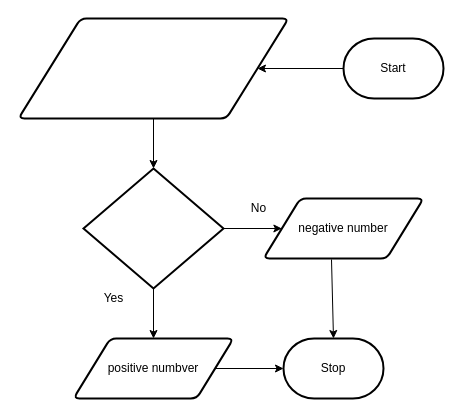
Some shapes in this 461 by 416 pixel diagram are drawn without their labels. Each missing label, with the box of its shape:
if input > =0: (82, 167, 224, 289)
input number is between -100 to 100: (17, 17, 289, 119)
